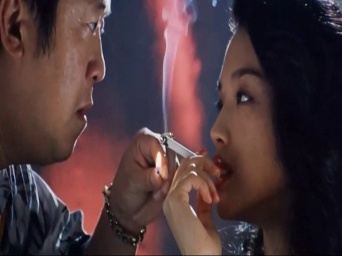smoke: (157, 131, 201, 163)
